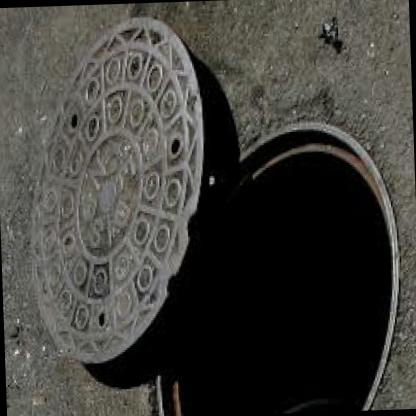manholes: (6, 0, 416, 416)
